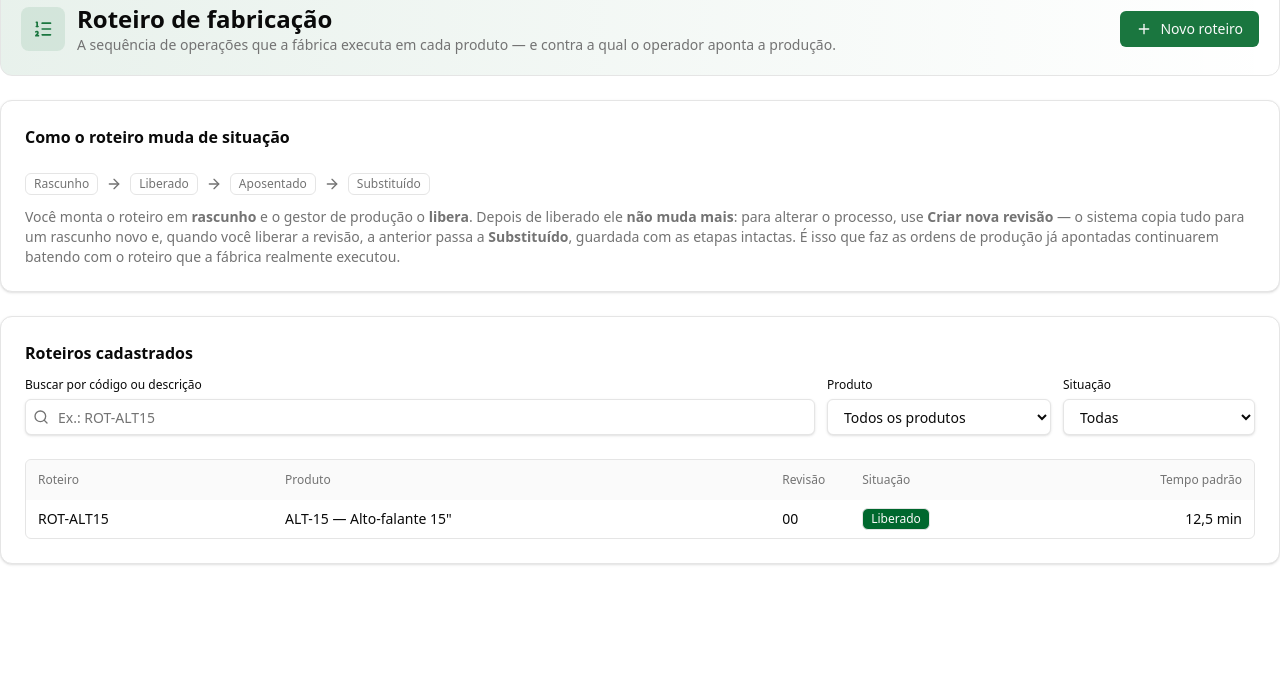
Test case: ProductionRoutesPage — roteiro liberado é congelado › esconde o editor e oferece a nova revisão como caminho de alteração
This screenshot has width=1280, height=698.
Step 1. Click the text "ROT-ALT15" → (73, 518), box [26, 500, 273, 538]
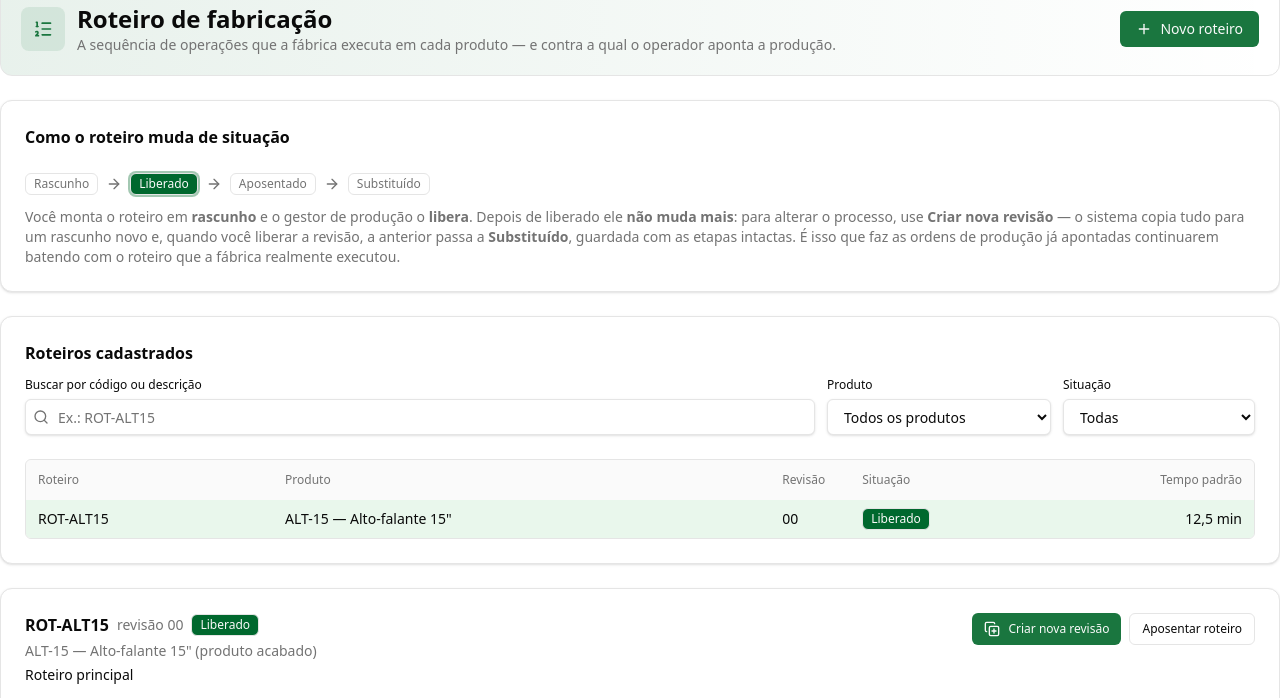
Step 2. Click the button "Criar nova revisão" → (1047, 629), box [972, 613, 1122, 645]
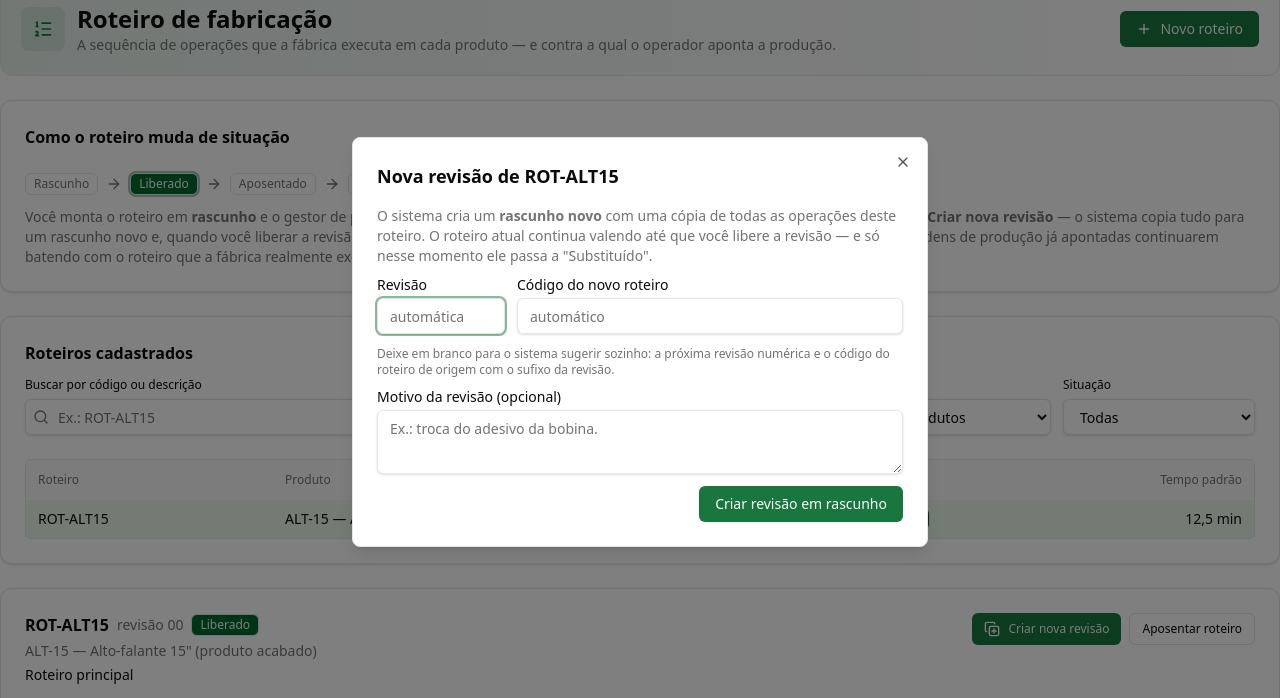
Step 3. Click the button "Criar revisão em rascunho" → (801, 504), box [699, 486, 903, 522]
(page scrolled)
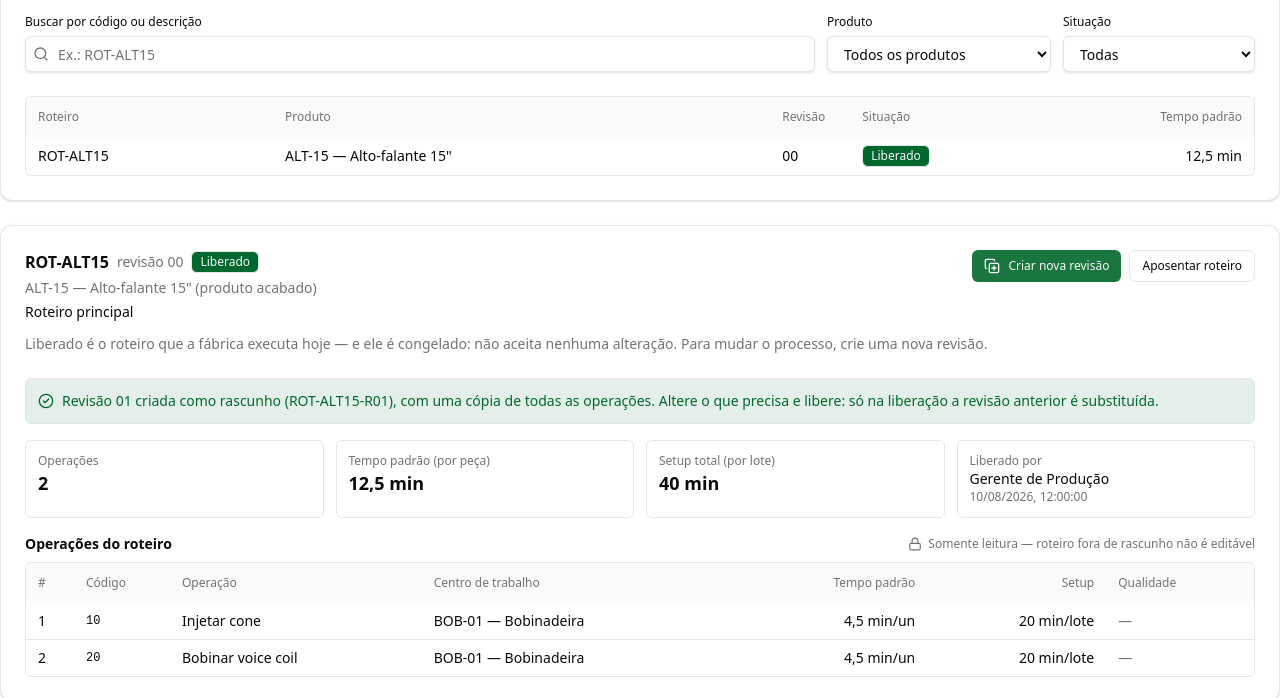
Check: the text "Revisão 01 criada como rascunho" is shown, box [62, 391, 1159, 410]
